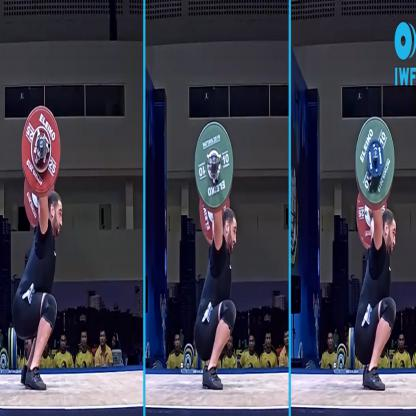Barbell: (350, 112, 398, 210), (191, 116, 236, 215), (20, 98, 64, 198)
